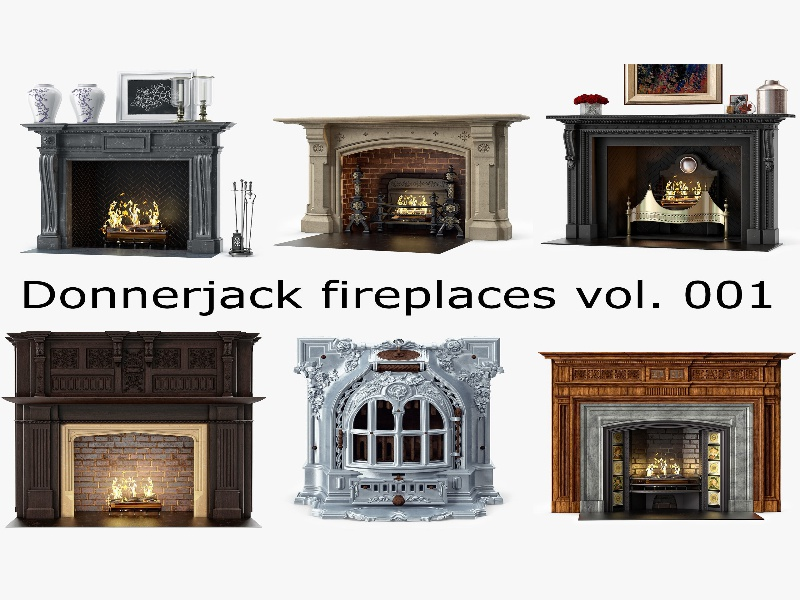fire: (105, 191, 162, 229), (107, 476, 159, 499), (642, 456, 684, 476), (397, 191, 429, 216), (665, 178, 699, 201)
